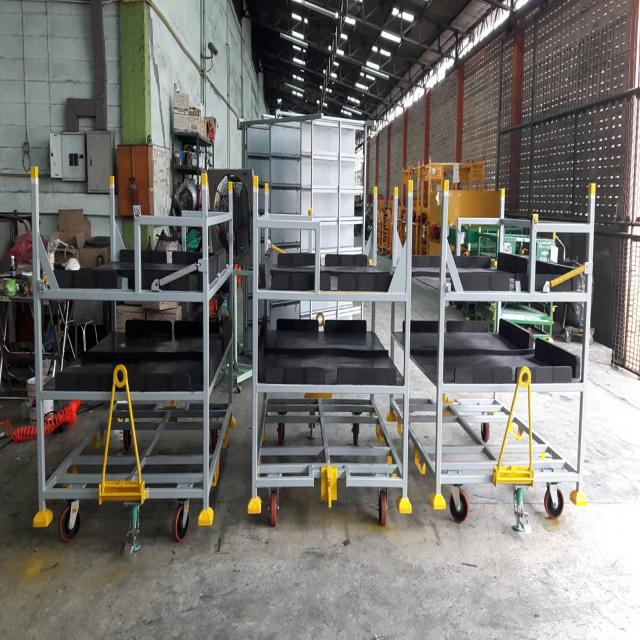broyeur: (31, 406, 232, 566), (391, 380, 591, 532), (248, 383, 412, 525)
